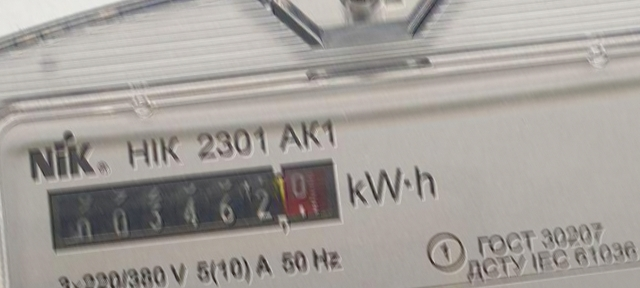0: (109, 206, 130, 237), (288, 171, 308, 201), (72, 216, 93, 241)
2: (252, 187, 273, 221)
3: (143, 200, 165, 234)
4: (180, 195, 200, 229)
6: (214, 191, 237, 227)
9: (72, 194, 94, 215)
screen: (32, 147, 353, 271)
